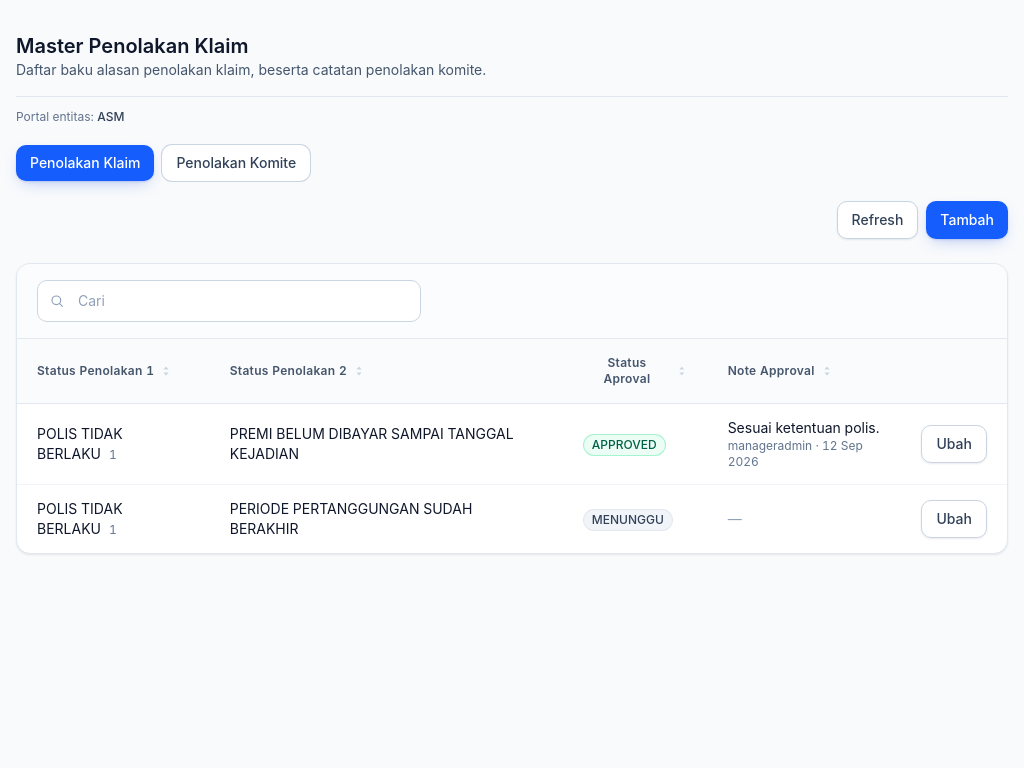
Test: tab Penolakan Komite › menampilkan kedua kolomnya setelah tab dipilih
Expected: the table is shown, x1=17 y1=339 x2=1007 y2=553
What coordinates should you click on to do the following:
click the tab "Penolakan Komite"
I would click on:
 (236, 163)
Its box is x1=162 y1=145 x2=310 y2=181.
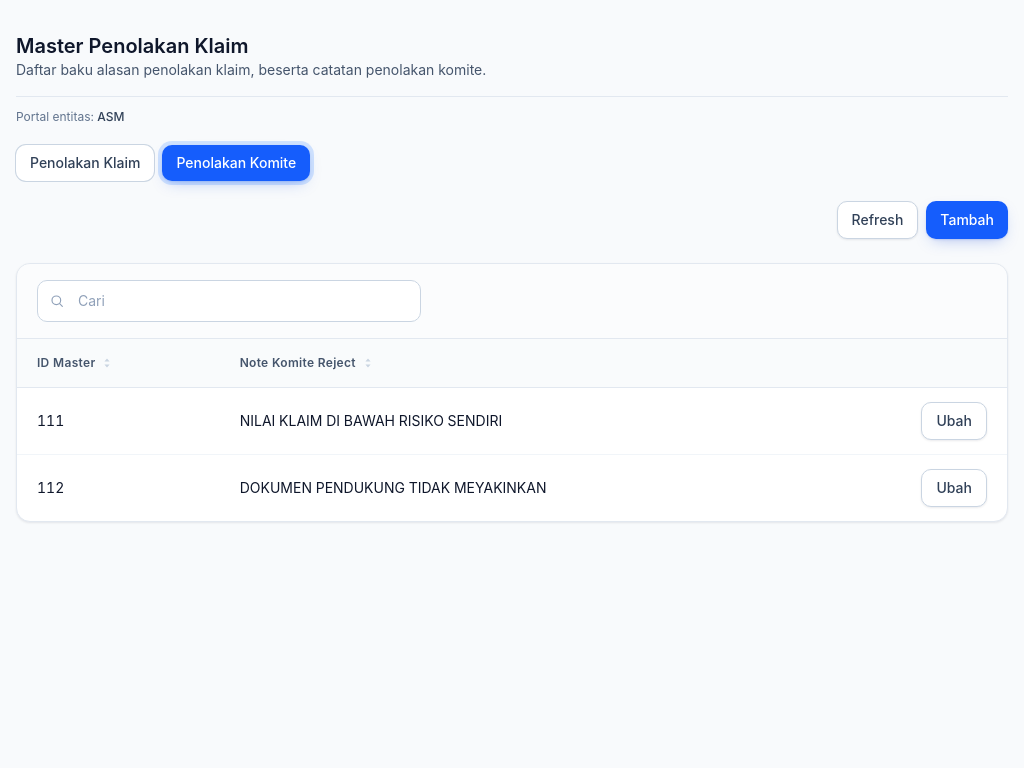
Now the column heading "ID Master" is shown, box x1=17 y1=339 x2=220 y2=388
Now the column heading "Note Komite Reject" is shown, box x1=220 y1=339 x2=823 y2=388
Now the text "NILAI KLAIM DI BAWAH RISIKO SENDIRI" is shown, box x1=240 y1=412 x2=502 y2=429
